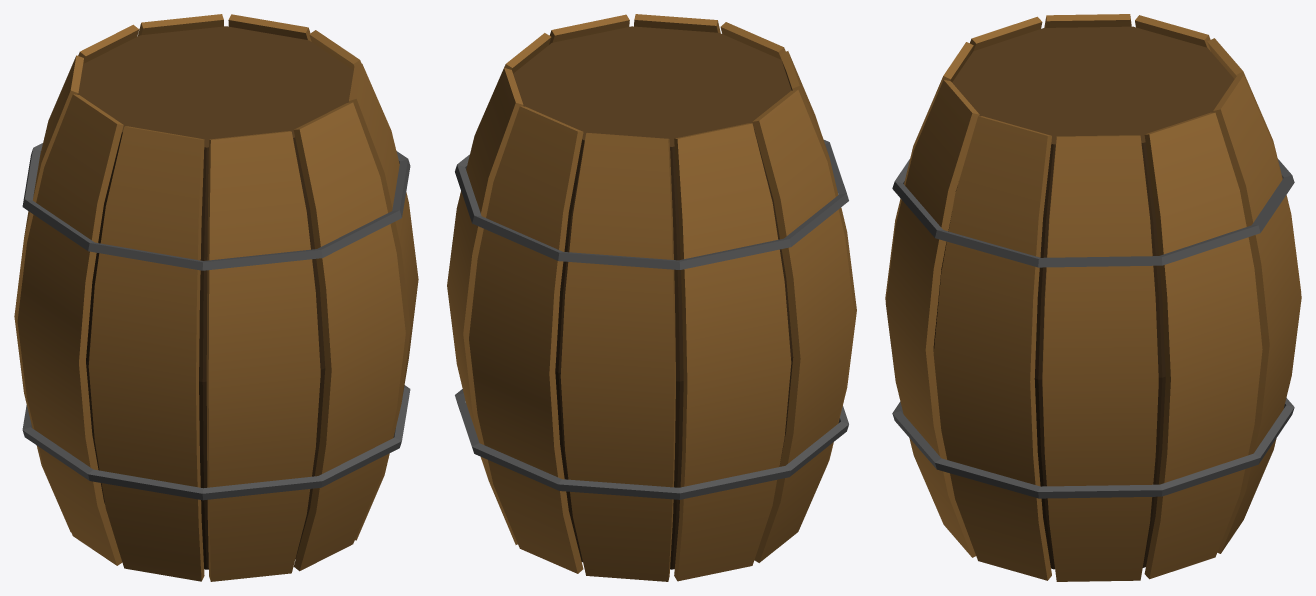
Rendered from barrel.fbx.
3 renders of one model, left to right at view 1: azimuth 30°, elevation 25°; view 2: azimuth 150°, elevation 25°; view 3: azimuth 270°, elevation 25°, orthographic.
Visible parts, largest first — view 1: barrel; view 2: barrel; view 3: barrel.
Boxes of the visible parts, left/top/right/bottom form: barrel: left=14, top=14, right=418, bottom=581; barrel: left=447, top=14, right=856, bottom=581; barrel: left=885, top=14, right=1301, bottom=581.
Size of the model in its own units: 0.6678 by 0.8119 by 0.6888.
